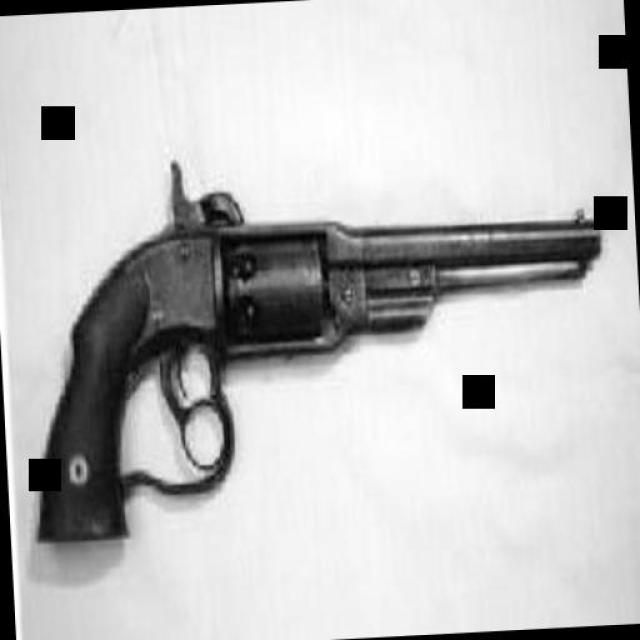gun: (12, 111, 620, 545)
